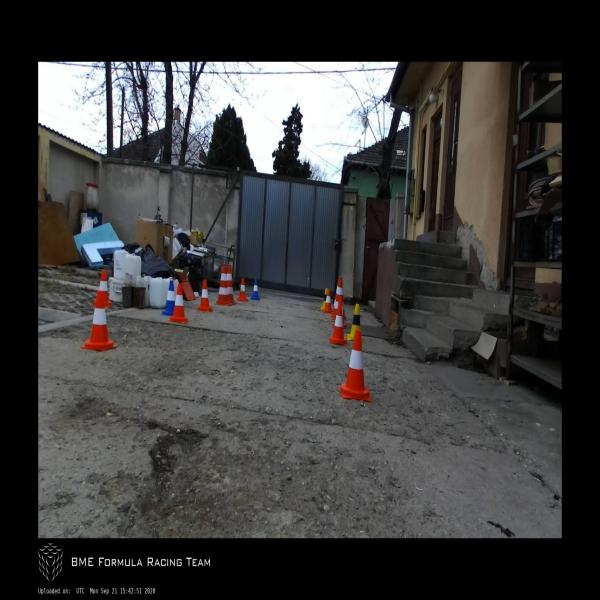blue_cone: (162, 281, 175, 315), (251, 279, 260, 300)
large_orange_cone: (214, 264, 232, 305), (332, 278, 344, 320), (227, 265, 236, 304)
orange_cone: (340, 330, 372, 402), (80, 292, 117, 350), (169, 284, 189, 323), (329, 304, 347, 344), (93, 271, 111, 306), (197, 280, 212, 312), (238, 278, 248, 301), (324, 290, 332, 312)
yellow_cone: (347, 304, 364, 342), (320, 288, 328, 308)
